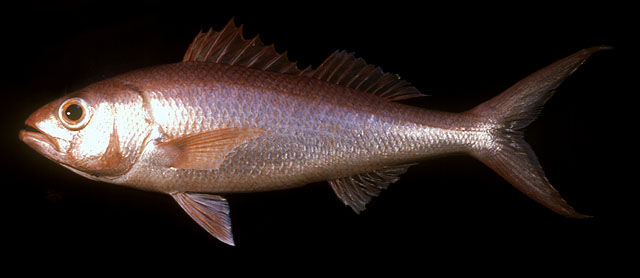fish: (17, 17, 610, 248)
